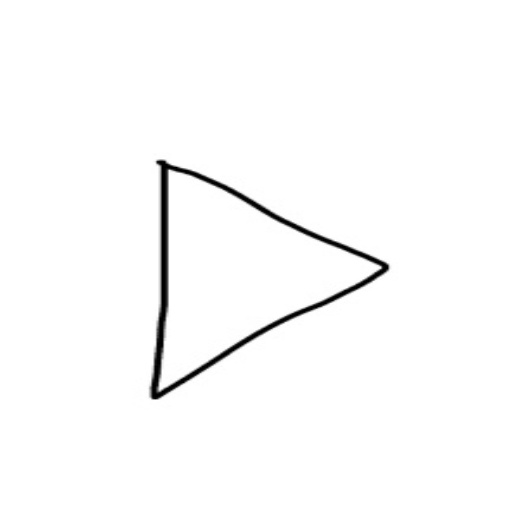triangle: (131, 151, 399, 415)
